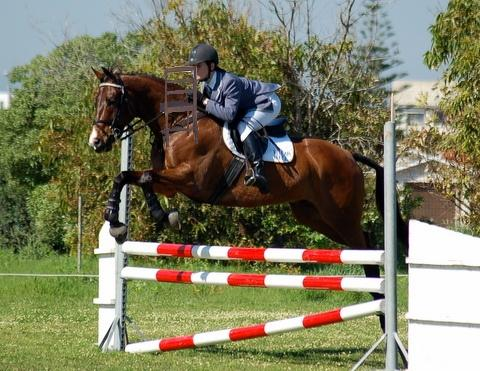tampered: (161, 67, 198, 147)
